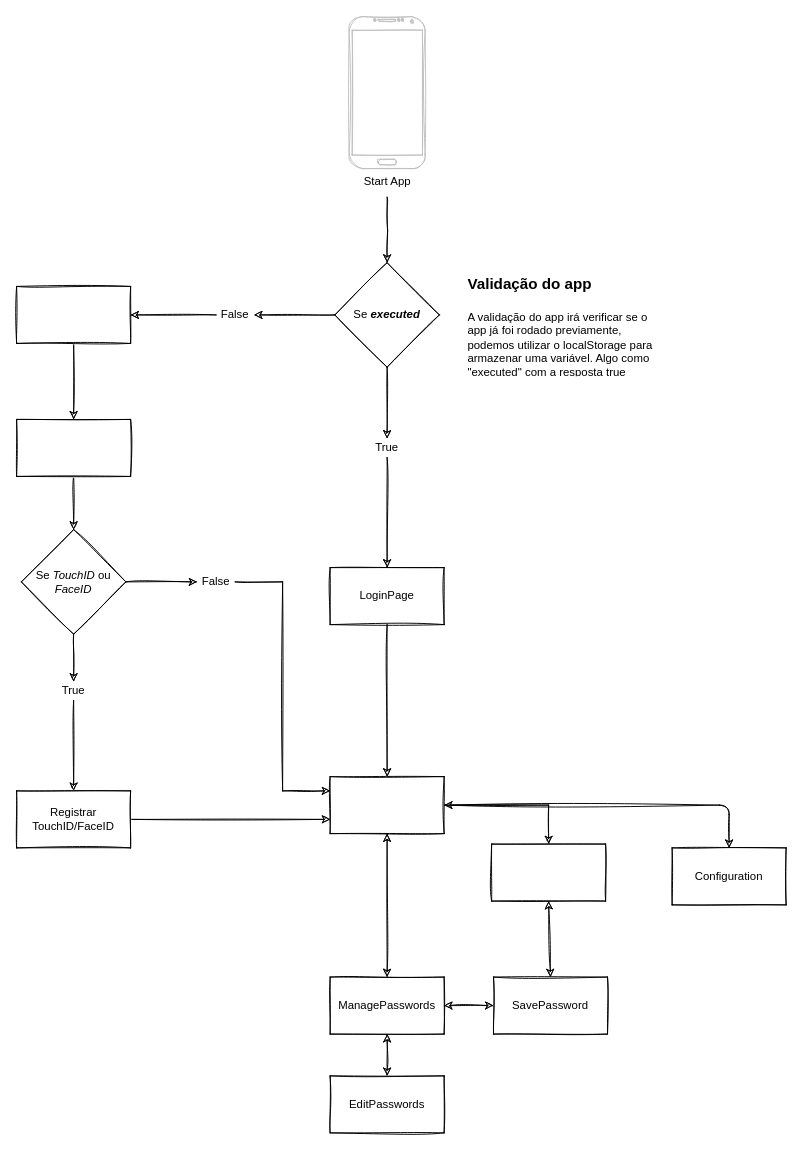
Some shapes in this 803 by 1150 pixel diagram are drawn without their labels. Here are the shapes that lost their labels. From the top down, the centre of each, then its label:
At (73,314): "Apresentação do app".
At (73,447): "Cadastro SenhaMestre".
At (386,805): "MainPage".
At (548,872): "CreatePassword".
